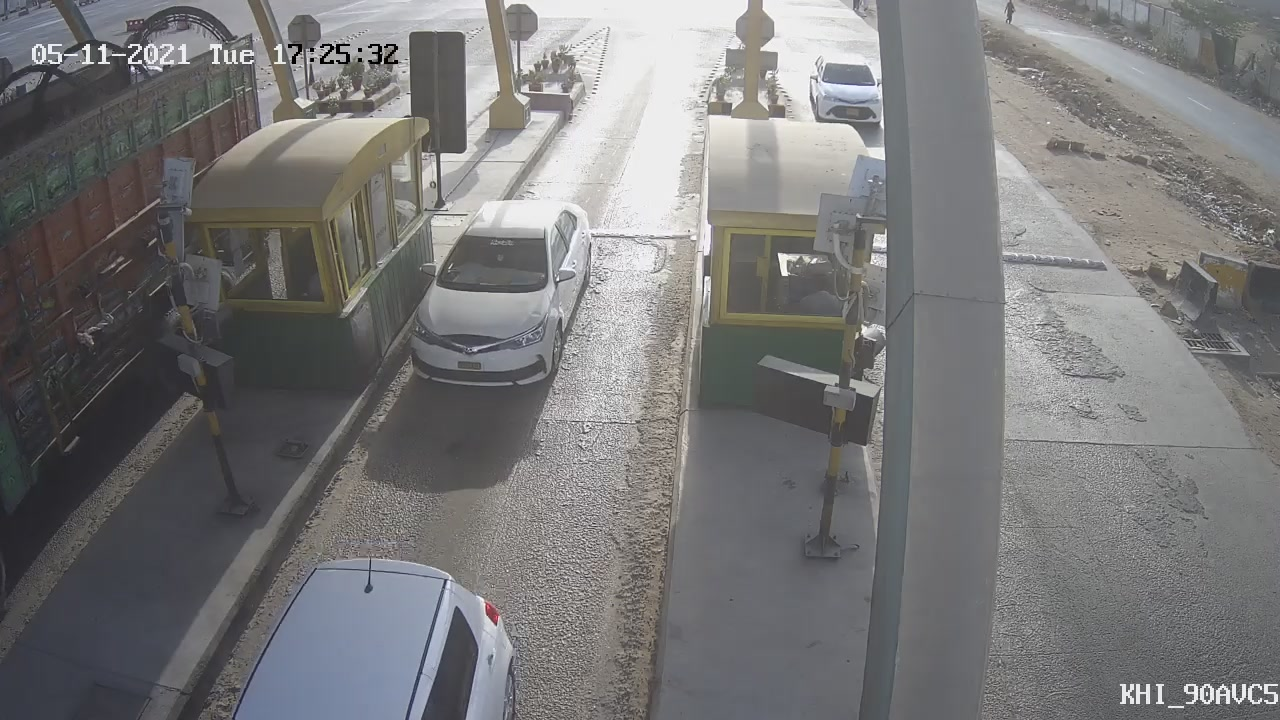F1: (376, 181, 612, 412)
